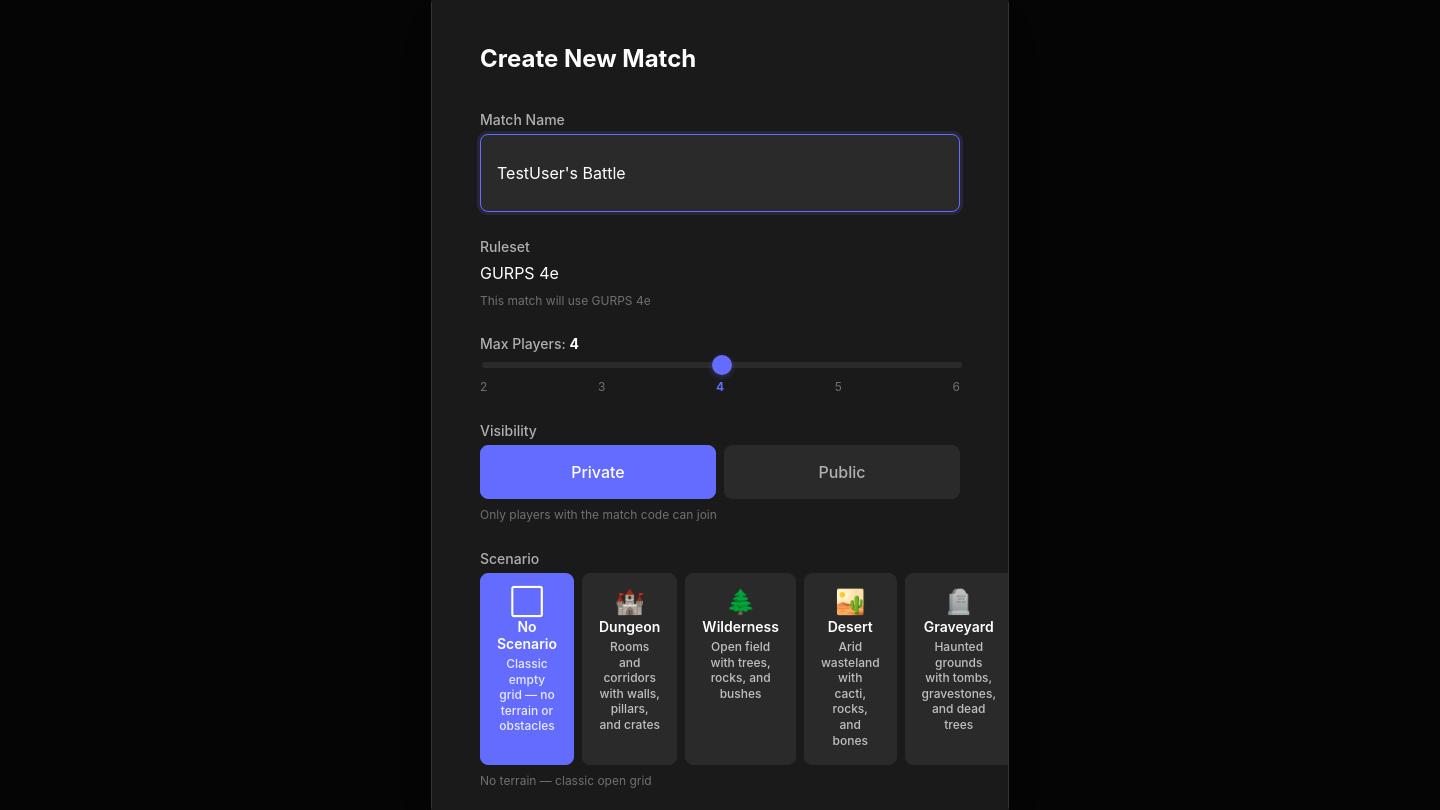
Test: CreateMatchDialog › changing max players updates display
This screenshot has width=1440, height=810.
Set the slider to "6" at point(954, 365), box [482, 362, 962, 368]
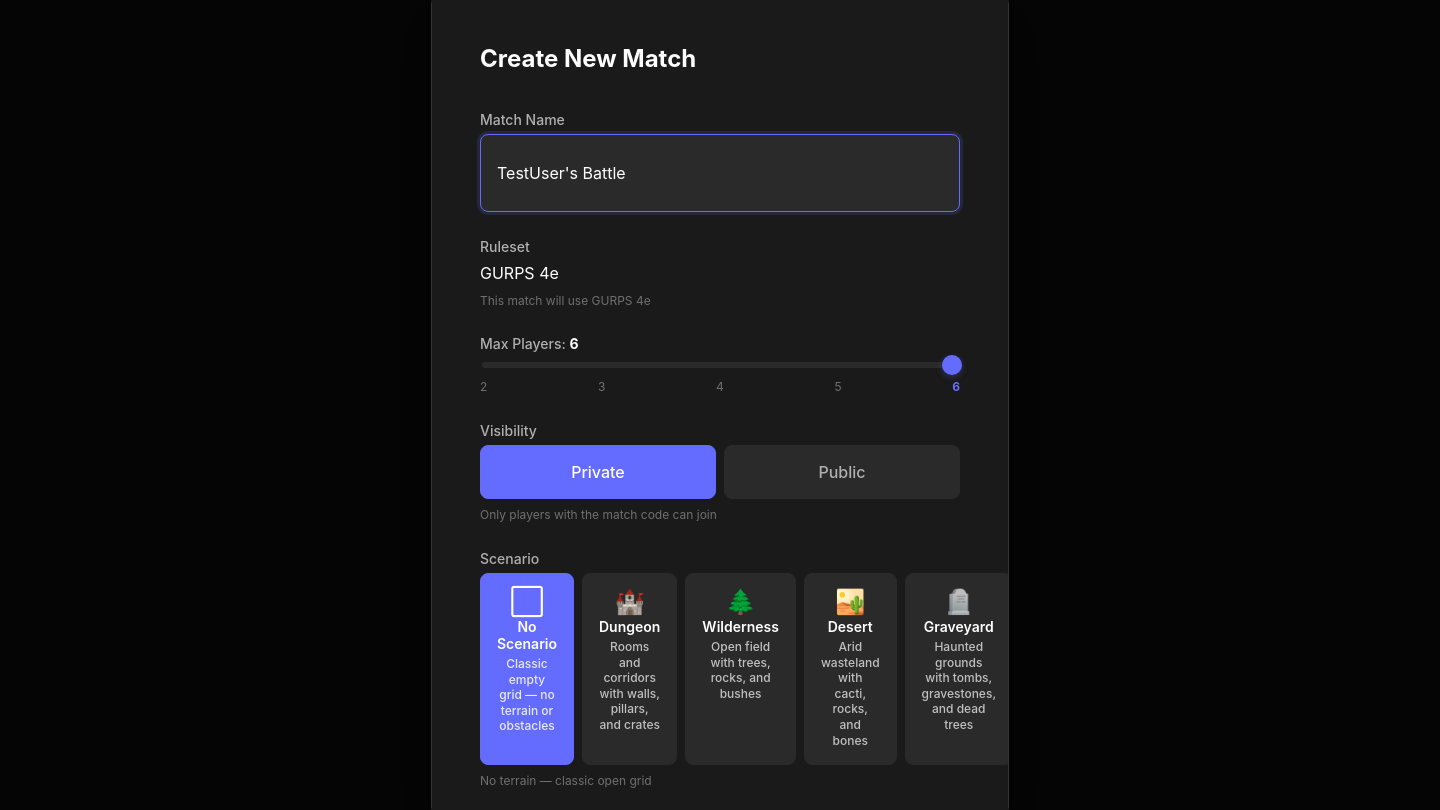
Expected: the text "6" next to "Max Players:" is shown, [570, 335, 579, 352]
